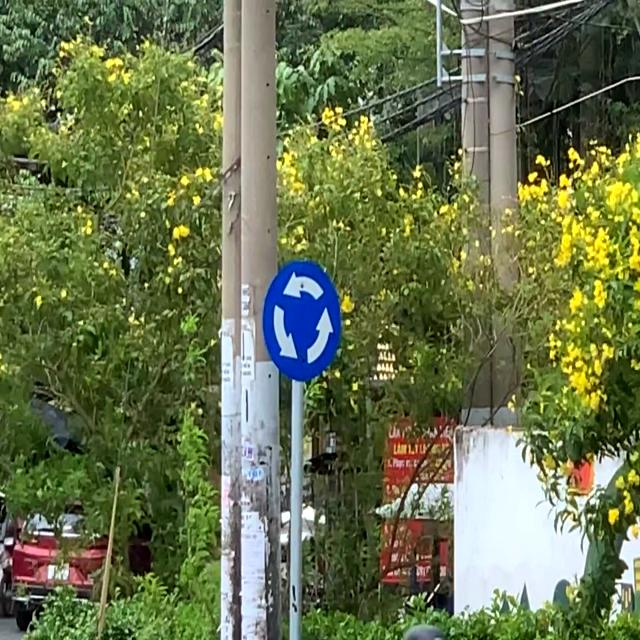R.303: (261, 257, 344, 385)
